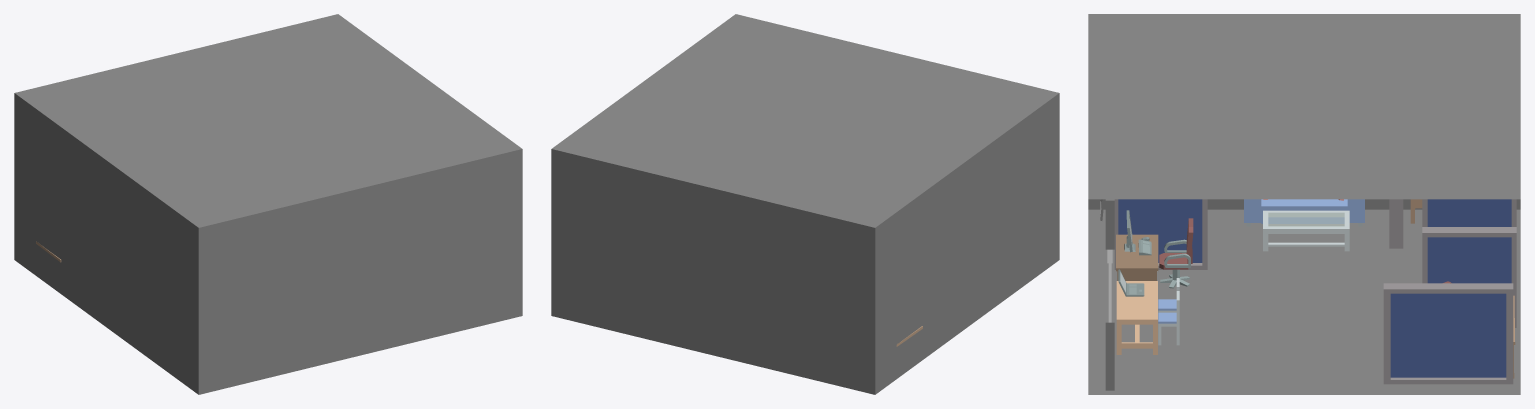
The model's file is tech-voc building.glb.
The picture shows the model from 3 angles, left to right: view 1: azimuth 30°, elevation 25°; view 2: azimuth 150°, elevation 25°; view 3: azimuth 270°, elevation 25°; orthographic projection. The views are drawn at different scales.
Visible parts, largest first — view 1: Cube; view 2: Cube; view 3: Cube, Cube.003, Cube.006, Cube.004, tableCoffeeGlass(Clone), Cube.002, loungeDesignSofa(Clone), table(Clone), Cube.001, desk(Clone), chair, Cube.005 (+2 smaller).
Boxes of the visible parts, x1,y1,x2,y2 form: Cube: [14, 14, 522, 394]; Cube: [551, 14, 1059, 394]; Cube: [1088, 14, 1520, 394]; Cube.003: [1383, 283, 1513, 384]; Cube.006: [1422, 227, 1516, 327]; Cube.004: [1114, 199, 1207, 269]; tableCoffeeGlass(Clone): [1263, 210, 1349, 251]; Cube.002: [1422, 199, 1516, 226]; loungeDesignSofa(Clone): [1244, 199, 1364, 226]; table(Clone): [1116, 281, 1157, 354]; Cube.001: [1100, 199, 1114, 390]; desk(Clone): [1116, 234, 1158, 280]; chair: [1159, 218, 1193, 269]; Cube.005: [1389, 199, 1403, 248].
Size of the model in its own units: 4.07 by 2 by 4.
